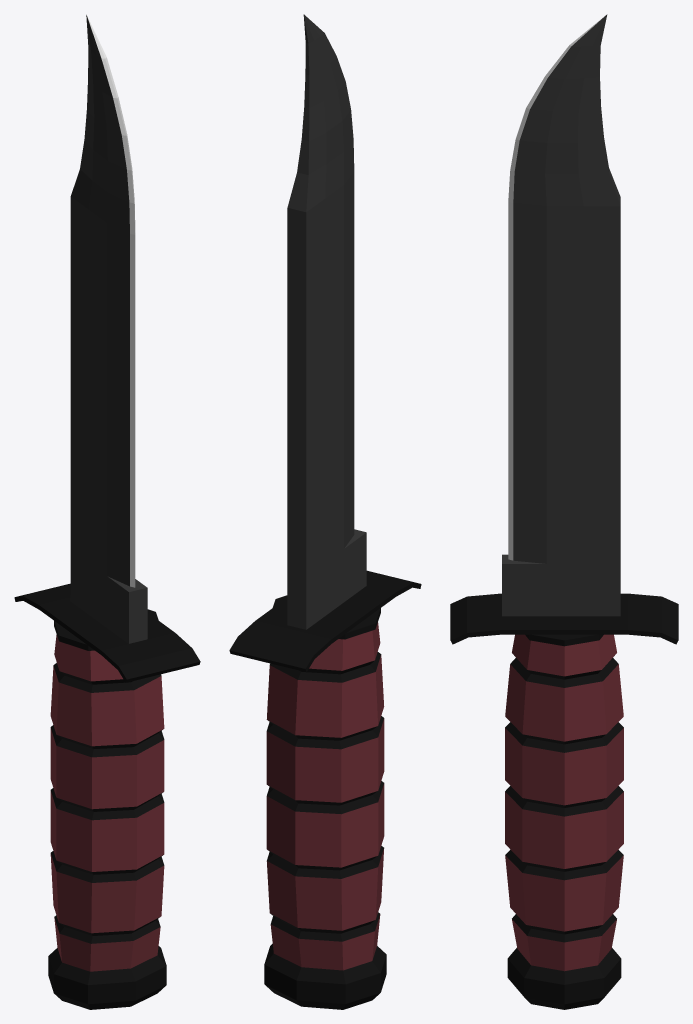
Rendered from KABAR.glb.
3 views of the same model, side by side, from view 1: azimuth 30°, elevation 25°; view 2: azimuth 150°, elevation 25°; view 3: azimuth 270°, elevation 25° (orthographic). The views are drawn at different scales.
Visible parts, largest first — view 1: KABAR; view 2: KABAR; view 3: KABAR.
Part boxes in pixels (x1,y1,x2,y2): KABAR: [14, 14, 200, 1009]; KABAR: [229, 14, 421, 1009]; KABAR: [450, 14, 678, 1009].
Bounding box in the file's own units: 0.0413 × 0.3529 × 0.0749.
